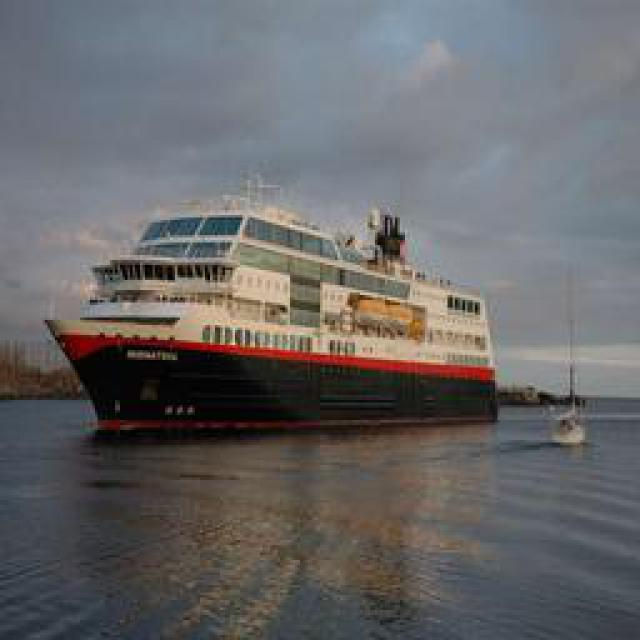Ship: (54, 196, 499, 429)
